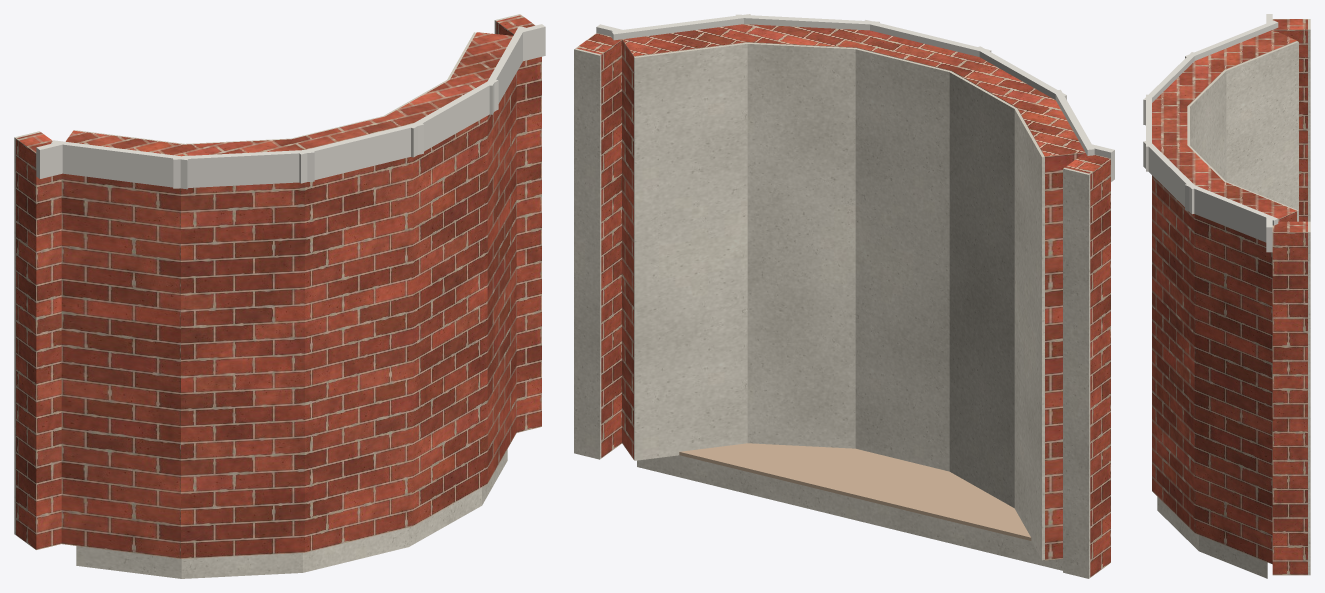
File: bay_a1.glb
3 renders of one model, left to right at view 1: azimuth 30°, elevation 25°; view 2: azimuth 150°, elevation 25°; view 3: azimuth 270°, elevation 25°, orthographic. The views are drawn at different scales.
Visible parts, largest first — view 1: bay_a1_brick, bay_a1_lime, bay_a1_plaster; view 2: bay_a1_plaster, bay_a1_brick, bay_a1_floor, bay_a1_lime; view 3: bay_a1_brick, bay_a1_plaster, bay_a1_lime.
Boxes of the visible parts, bbox=[...] form: bay_a1_brick: bbox=[16, 15, 541, 558]; bay_a1_lime: bbox=[36, 24, 545, 189]; bay_a1_plaster: bbox=[14, 14, 520, 578]; bay_a1_plaster: bbox=[574, 42, 1090, 578]; bay_a1_brick: bbox=[576, 24, 1110, 577]; bay_a1_floor: bbox=[679, 443, 1031, 540]; bay_a1_lime: bbox=[596, 14, 1114, 181]; bay_a1_brick: bbox=[1152, 19, 1307, 575]; bay_a1_plaster: bbox=[1157, 19, 1310, 578]; bay_a1_lime: bbox=[1143, 14, 1278, 252].
Bounding box in the file's own units: 4 × 3.22 × 1.33.
4 materials, 2 textured.
